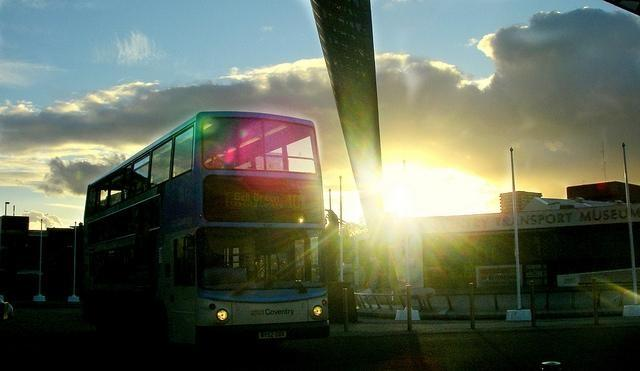bus: (78, 108, 336, 350)
